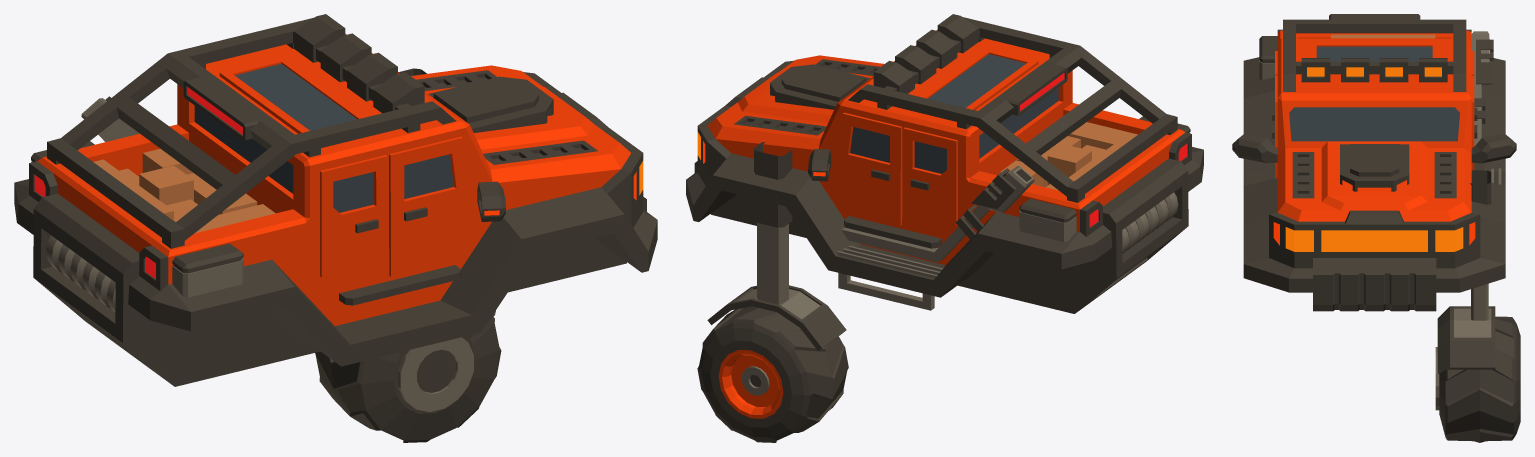
The picture shows the model from 3 angles, left to right: view 1: azimuth 30°, elevation 25°; view 2: azimuth 150°, elevation 25°; view 3: azimuth 270°, elevation 25°; orthographic projection. The views are drawn at different scales.
Visible parts, largest first — view 1: bodyBlack, bodyRed, wheel.001, glass, boxes, bodyMetal, wheelGuard.002, wheelGuard, stopLights; view 2: bodyBlack, bodyRed, wheel.001, bodyMetal, glass, boxes, wheel.002, Cylinder.016, wheelGuard, Cylinder.023, wheelGuard.002, stopLights (+1 smaller); view 3: bodyBlack, bodyRed, glass, wheel.001, headlights, wheelGuard, wheelGuard.002, bodyMetal, Cylinder.023, Cylinder.016, boxes.
Boxes of the visible parts, bbox=[...] form: bodyBlack: bbox=[14, 14, 657, 386]; bodyRed: bbox=[37, 33, 630, 325]; wheel.001: bbox=[315, 317, 501, 442]; glass: bbox=[194, 63, 453, 212]; boxes: bbox=[93, 148, 275, 233]; bodyMetal: bbox=[31, 98, 243, 311]; wheelGuard.002: bbox=[398, 337, 473, 411]; wheelGuard: bbox=[397, 310, 495, 392]; stopLights: bbox=[34, 87, 242, 278]; bodyBlack: bbox=[686, 14, 1203, 313]; bodyRed: bbox=[707, 30, 1185, 264]; wheel.001: bbox=[697, 306, 848, 442]; bodyMetal: bbox=[837, 132, 1190, 310]; glass: bbox=[850, 54, 1058, 173]; boxes: bbox=[1000, 122, 1137, 190]; wheel.002: bbox=[718, 350, 783, 418]; Cylinder.016: bbox=[757, 222, 788, 304]; wheelGuard: bbox=[707, 285, 846, 350]; Cylinder.023: bbox=[754, 142, 792, 227]; wheelGuard.002: bbox=[737, 289, 820, 319]; stopLights: bbox=[1020, 73, 1187, 227]; bodyBlack: bbox=[1232, 14, 1516, 311]; bodyRed: bbox=[1275, 30, 1474, 221]; glass: bbox=[1289, 46, 1459, 141]; wheel.001: bbox=[1439, 316, 1520, 442]; headlights: bbox=[1285, 67, 1463, 251]; wheelGuard: bbox=[1437, 306, 1495, 373]; wheelGuard.002: bbox=[1435, 308, 1491, 410]; bodyMetal: bbox=[1259, 31, 1501, 184]; Cylinder.023: bbox=[1470, 170, 1491, 204]; Cylinder.016: bbox=[1471, 283, 1488, 320]; boxes: bbox=[1331, 34, 1435, 38].
Bounding box in the file's own units: 2.99 × 2.48 × 1.91.
